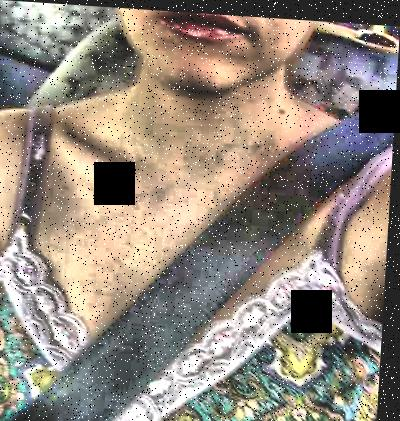seatbelt: (44, 82, 383, 404)
